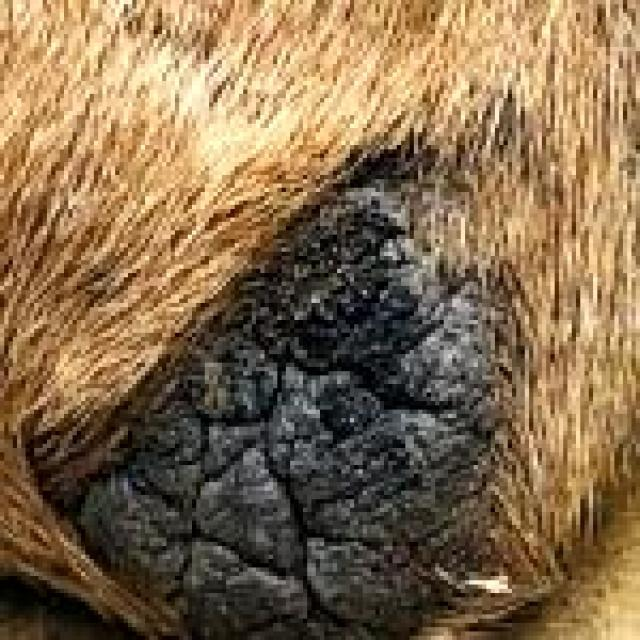fungal infection: (126, 434, 399, 640), (166, 324, 479, 441), (260, 194, 425, 318), (421, 452, 475, 520)
